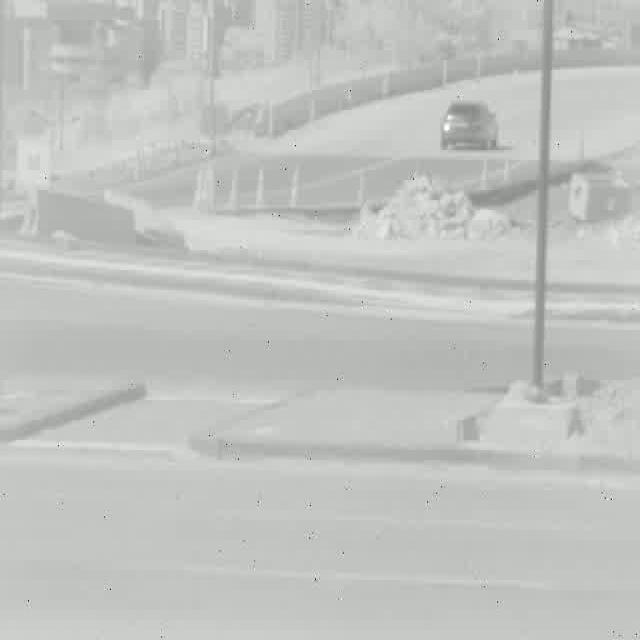Car: (440, 101, 500, 152)
